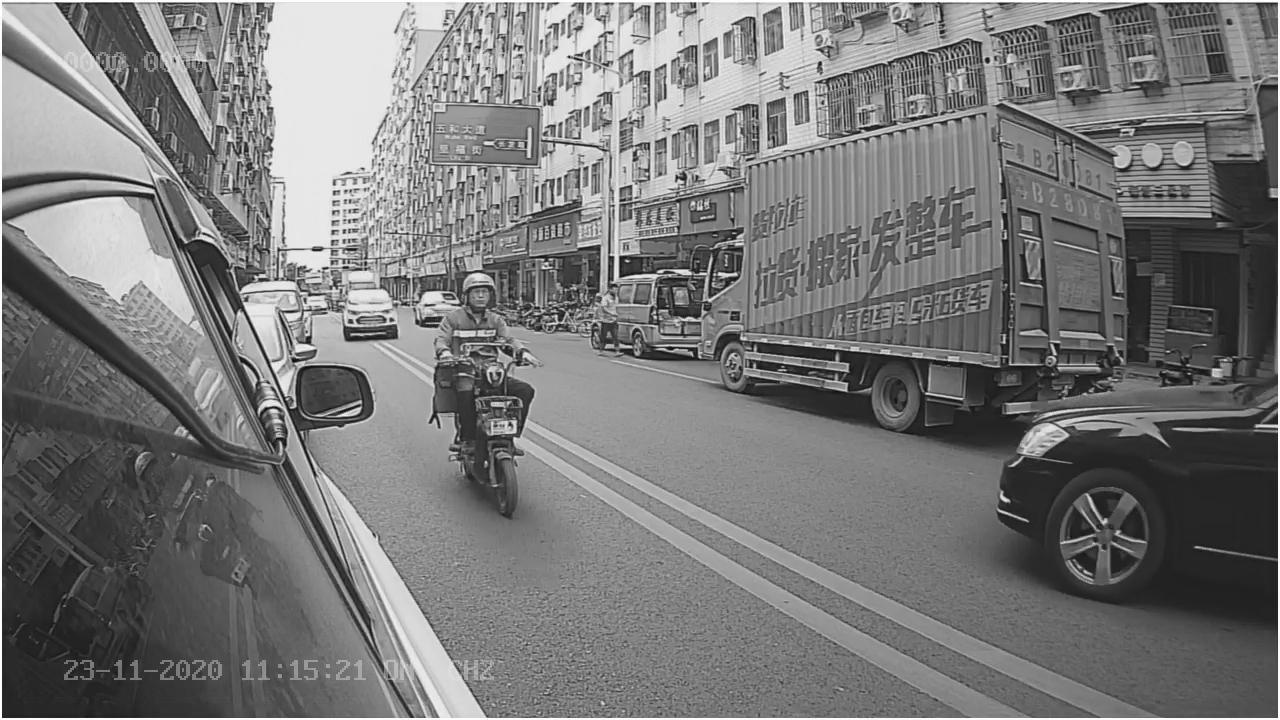person: (428, 270, 550, 365)
